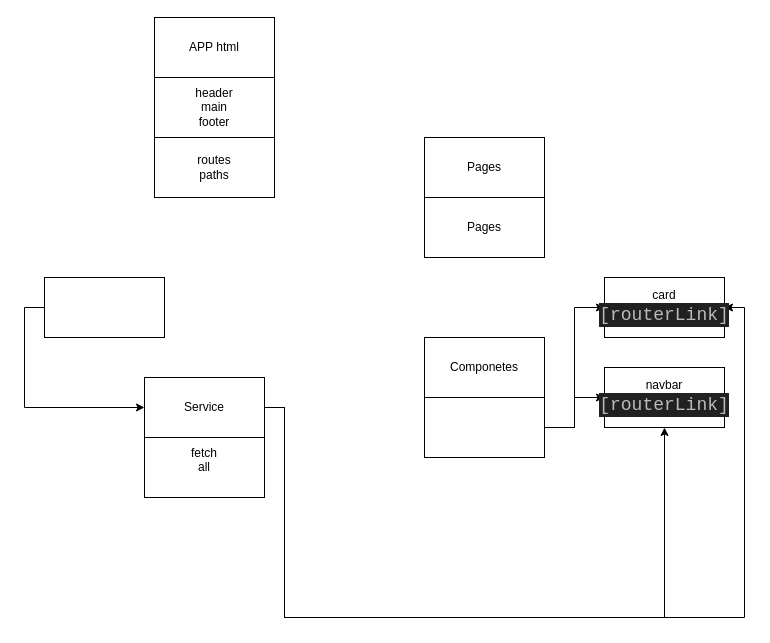
Some shapes in this 770 by 643 pixel diagram are drawn without their labels. The shapes that lost their labels are listed below. From the top down, each one's centre as x and y in pixels, then its label:
At point (104, 307): "Interface".
At point (484, 427): "navbar footer card etc.".
